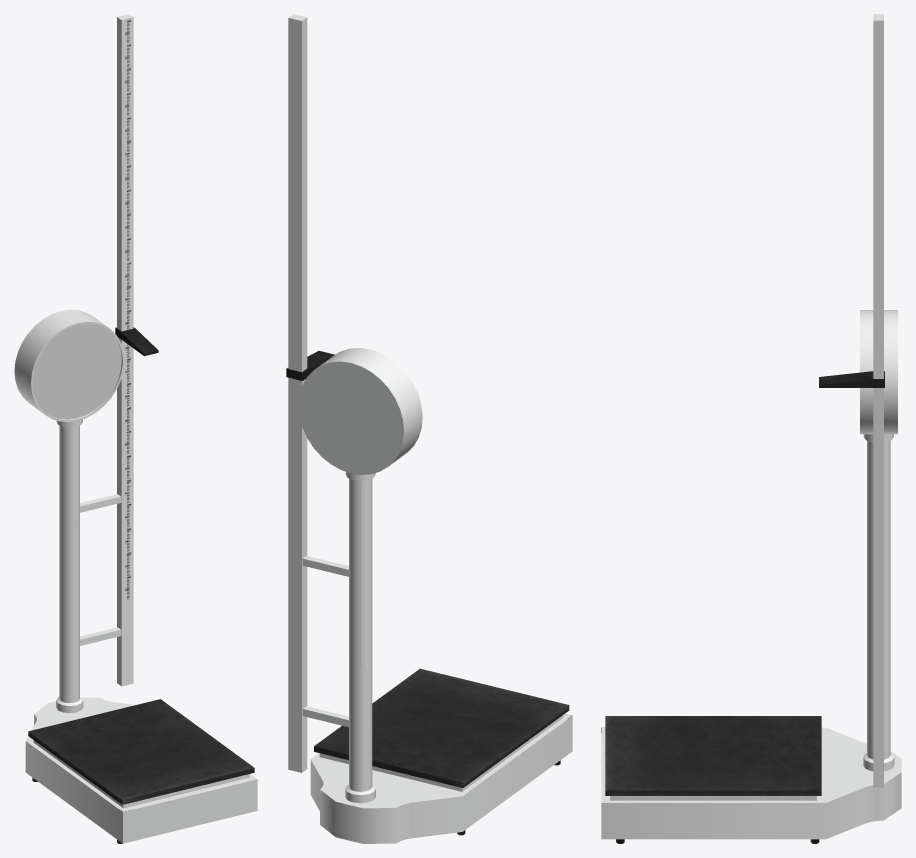
The model's file is Weighing_Machine.fbx.
3 views of the same model, side by side, from view 1: azimuth 30°, elevation 25°; view 2: azimuth 150°, elevation 25°; view 3: azimuth 270°, elevation 25° (orthographic). The views are drawn at different scales.
Visible parts, largest first — view 1: Weighing_Machine, HeightMeter; view 2: Weighing_Machine, HeightMeter; view 3: Weighing_Machine, HeightMeter.
Boxes of the visible parts, x1,y1,x2,y2 form: Weighing_Machine: [14, 14, 257, 843]; HeightMeter: [115, 327, 158, 356]; Weighing_Machine: [288, 14, 572, 843]; HeightMeter: [286, 351, 334, 380]; Weighing_Machine: [601, 14, 901, 843]; HeightMeter: [819, 371, 884, 387].
Bounding box in the file's own units: 42.29 × 215 × 70.98.
